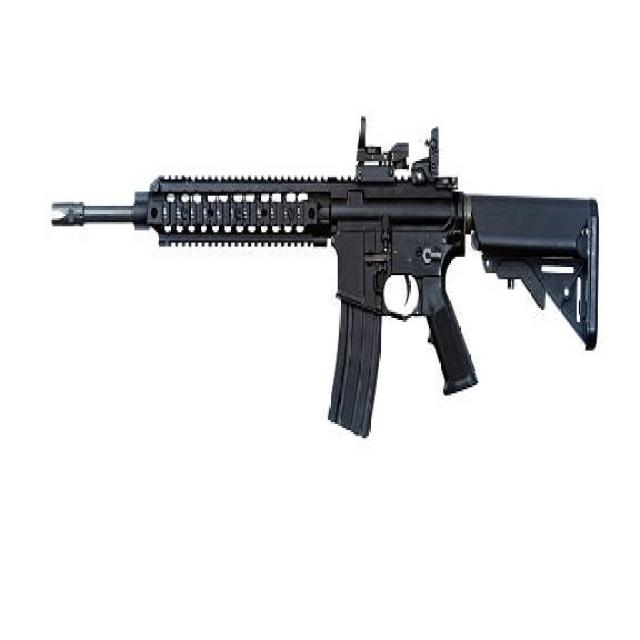rifle: (43, 106, 606, 454)
